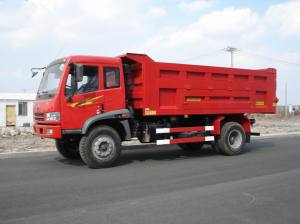truck: (30, 56, 275, 163)
